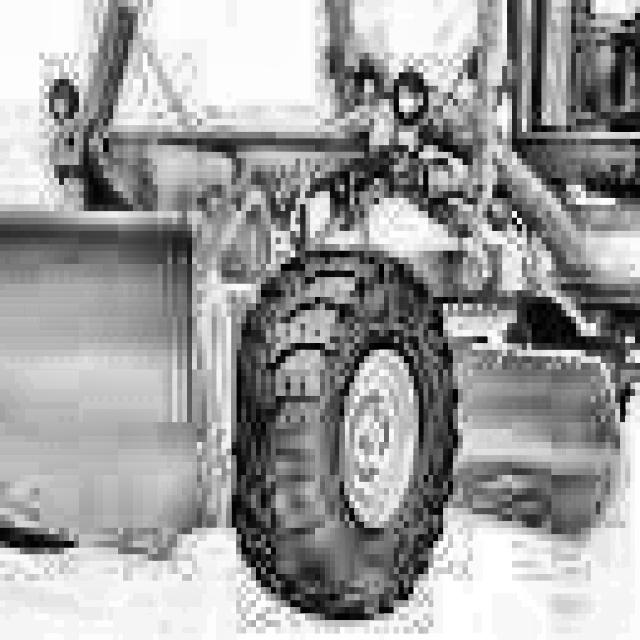buldozerpayloadergrader: (0, 0, 640, 614)
